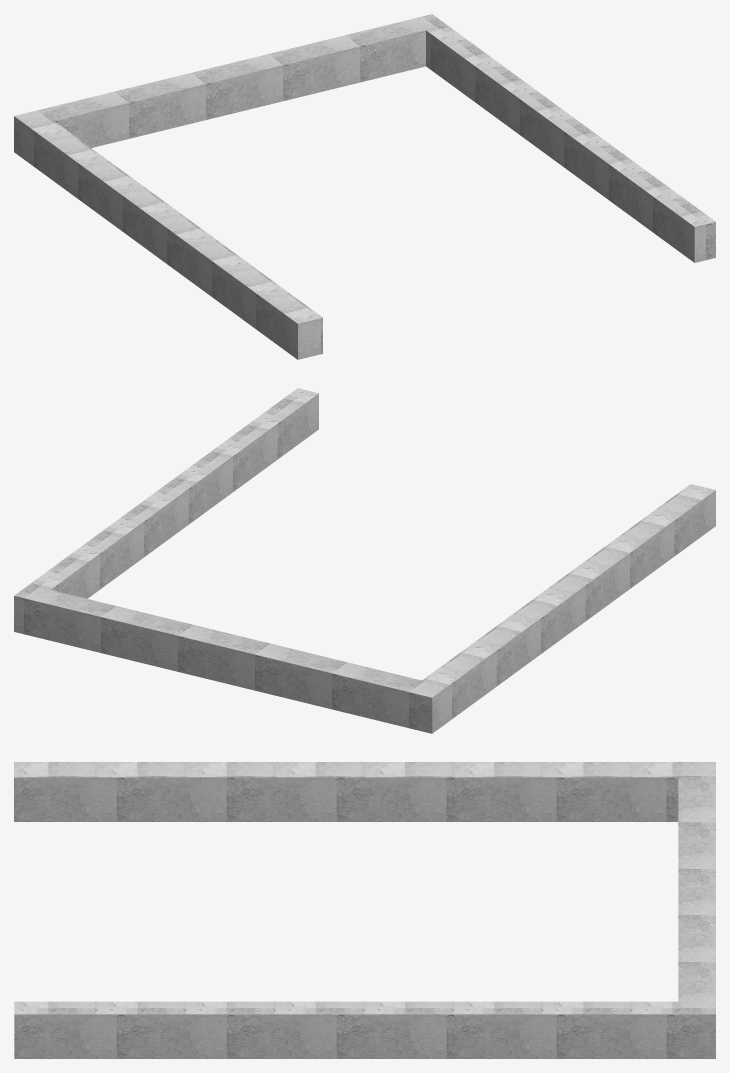
File: Raoxungquanh.fbx
3 views of the same model, one above another, from view 1: azimuth 30°, elevation 25°; view 2: azimuth 150°, elevation 25°; view 3: azimuth 270°, elevation 25° (orthographic). The views are drawn at different scales.
Parts seen in each view (by area): view 1: Group1; view 2: Group1; view 3: Group1.
Part boxes in pixels (box(x1,y1,x2,y2)): Group1: box(14, 14, 715, 359); Group1: box(14, 388, 715, 733); Group1: box(14, 762, 715, 1058).
Size of the model in its own units: 100462 by 8281 by 118097.
